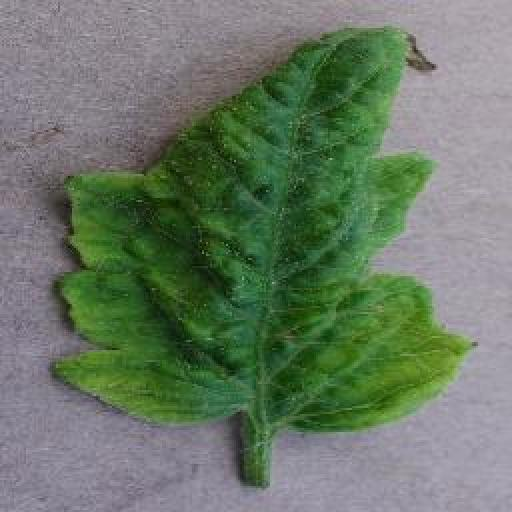disease_tomato: (46, 23, 481, 436)
